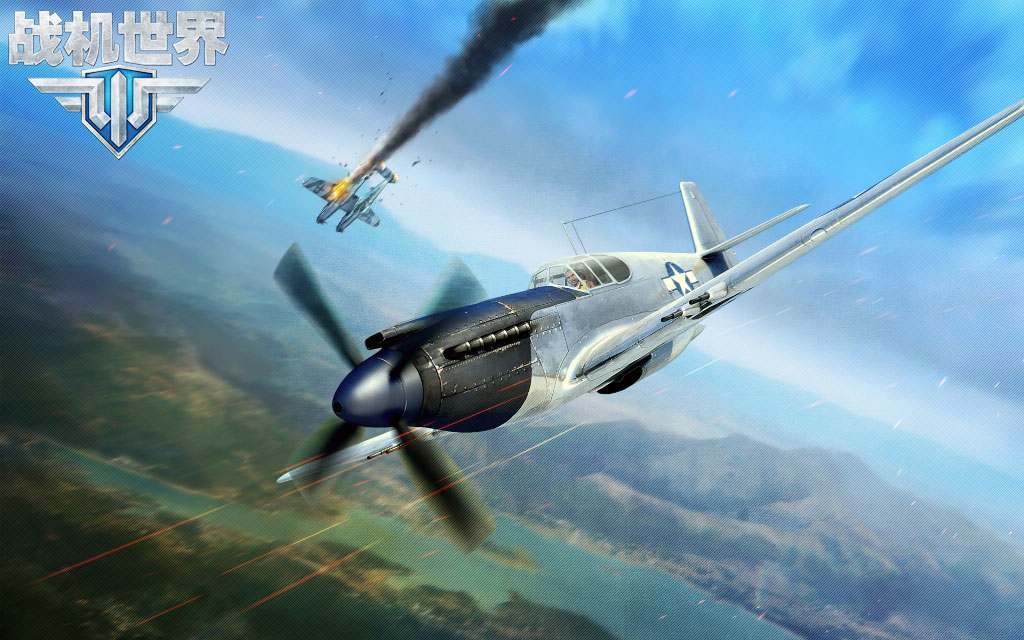airplane: (253, 100, 1024, 567)
